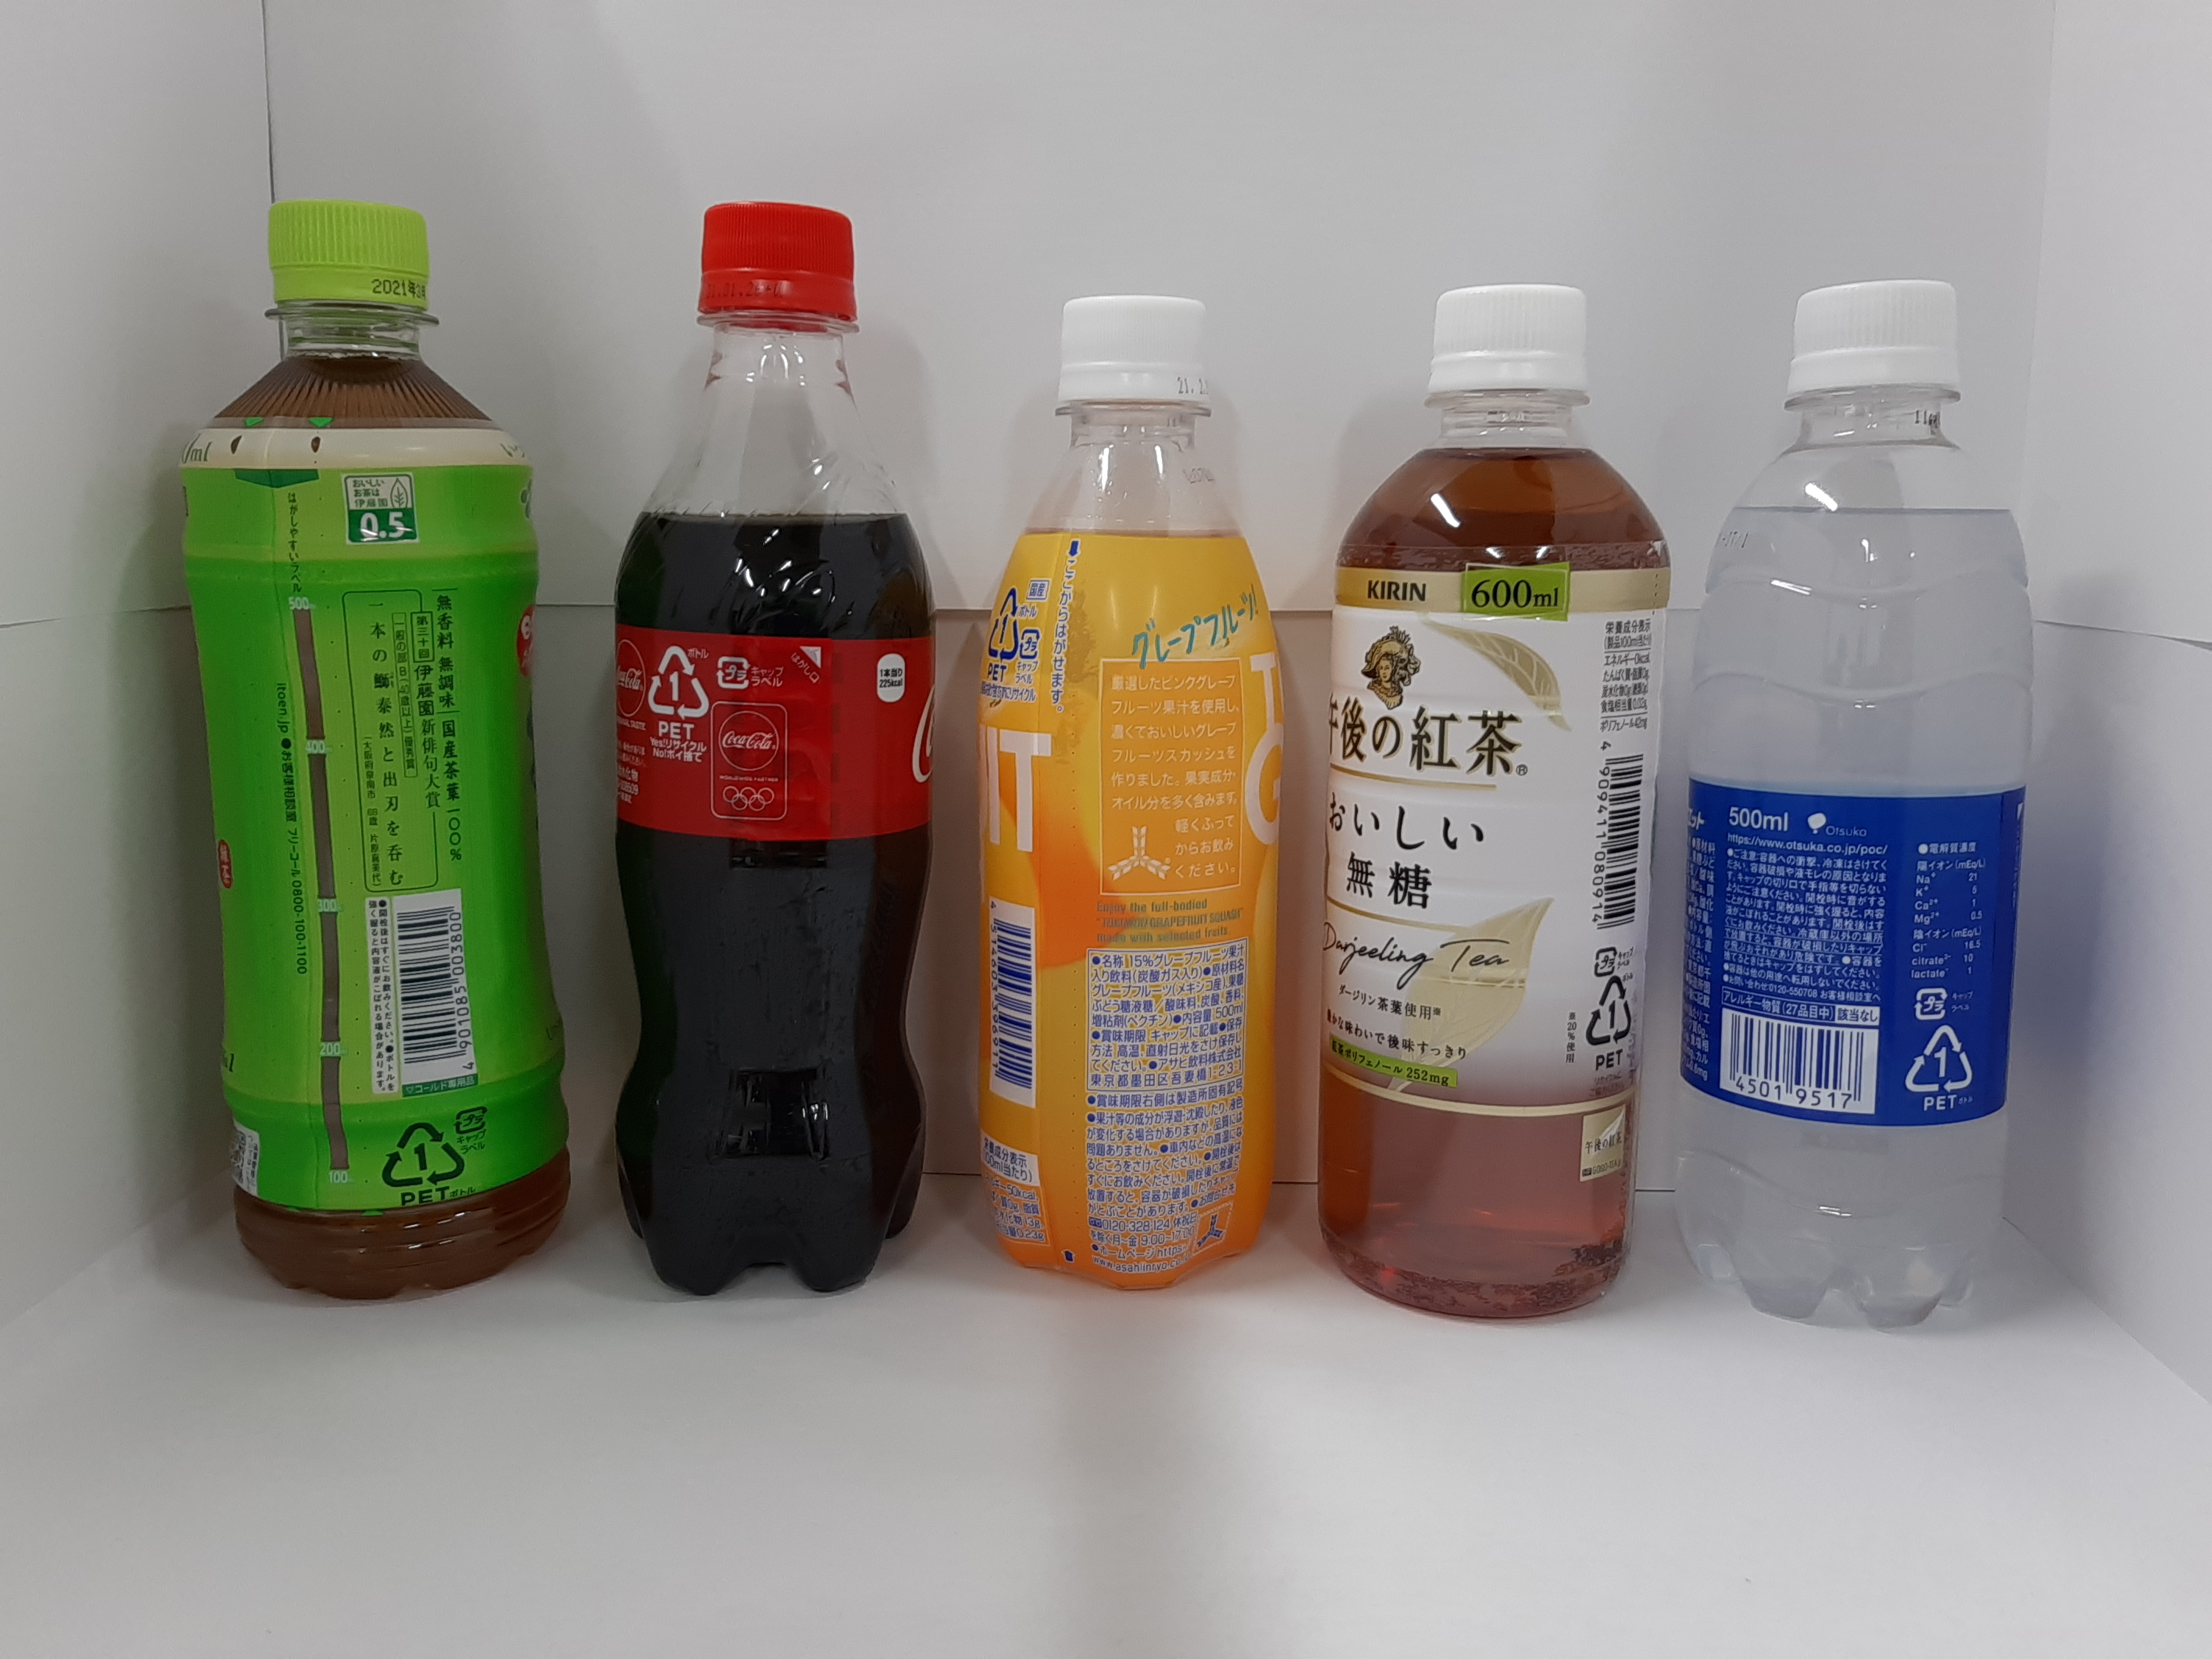おーいお茶: (145, 169, 589, 1326)
グレープフルーツスカッシュ: (935, 275, 1322, 1309)
コーラ: (578, 190, 968, 1317)
ポカリスエット: (1672, 258, 2085, 1354)
午後の紅茶: (1298, 263, 1676, 1342)
